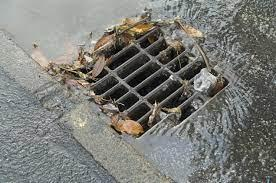open manhole-not overflowing-: (63, 14, 233, 147)
